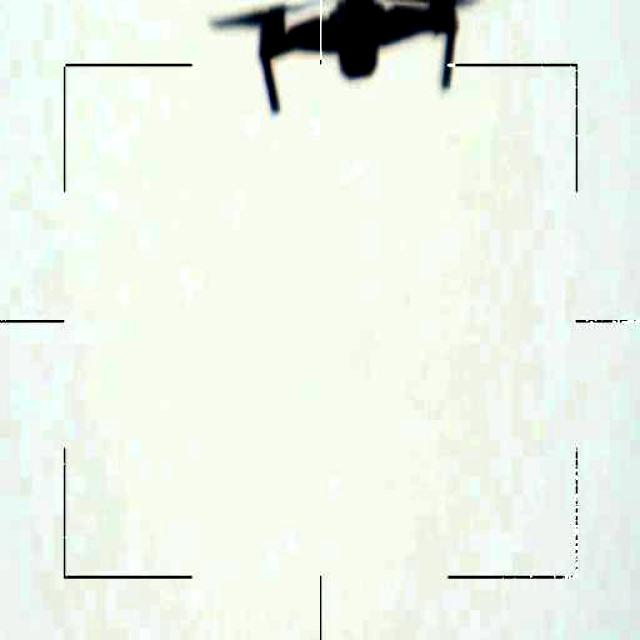bird: (204, 0, 514, 122)
